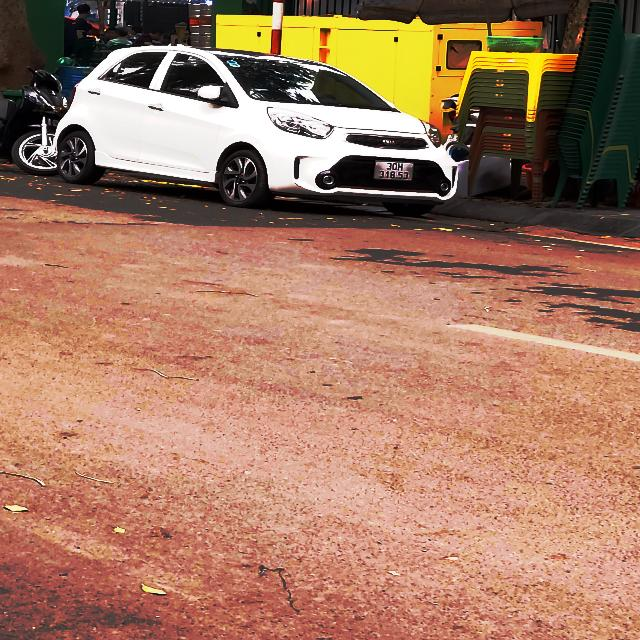license_plate: (374, 161, 416, 182)
